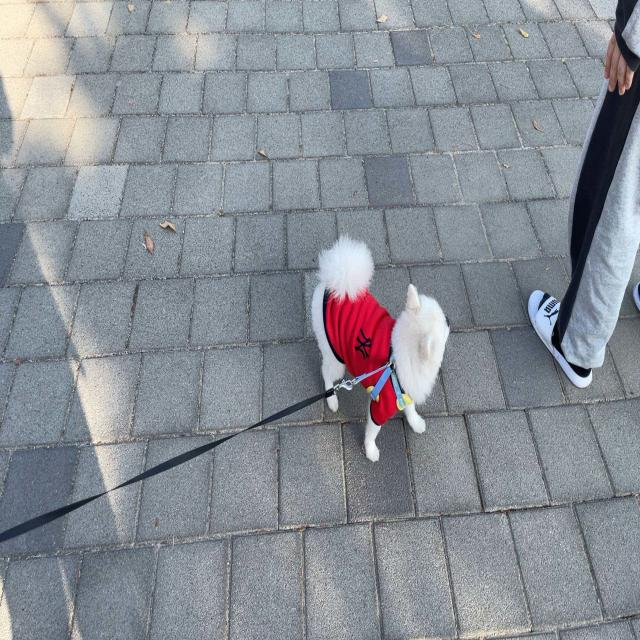Dog: (309, 231, 451, 462)
